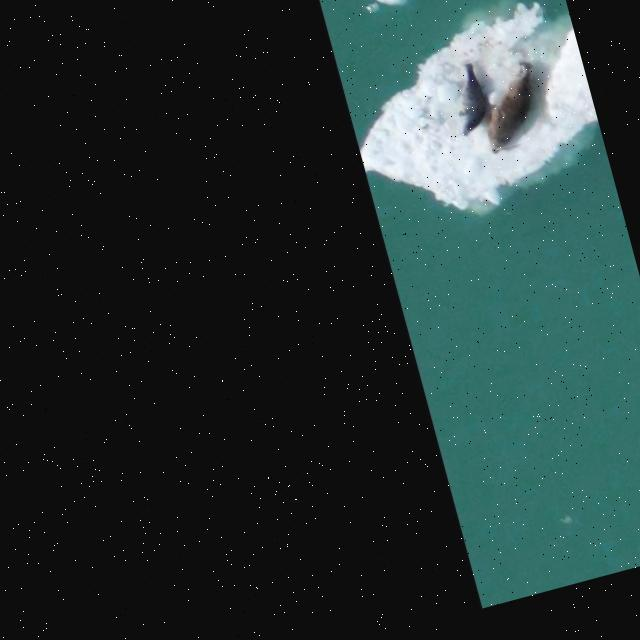seal: (486, 58, 536, 150), (464, 63, 488, 134)
